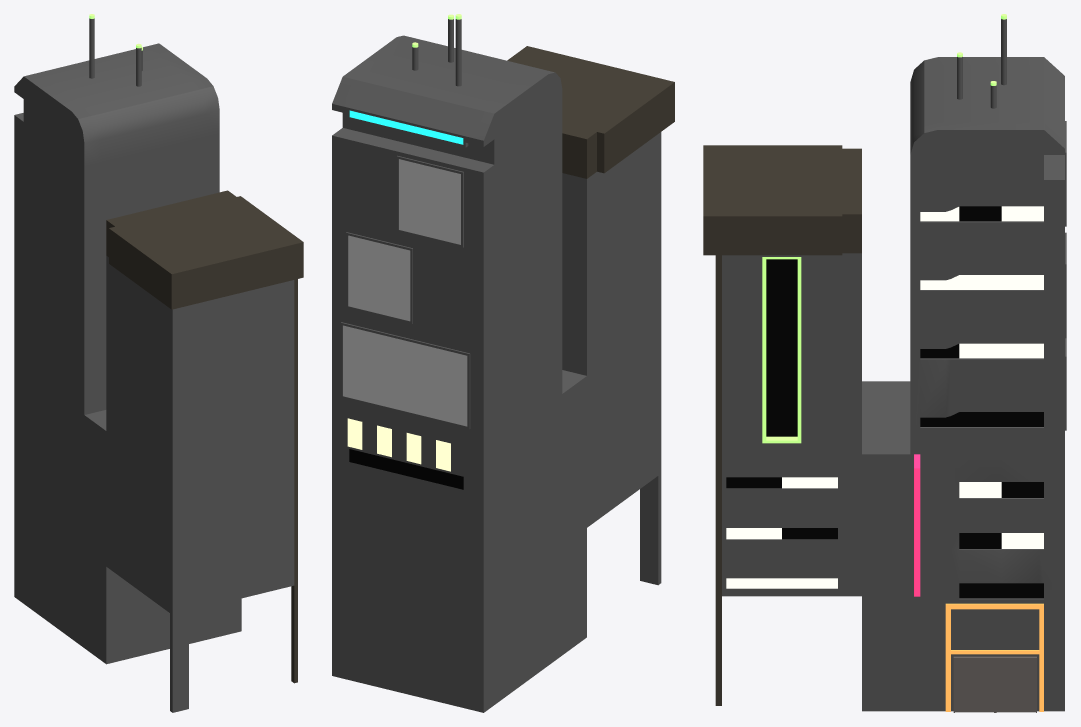
Rendered from SM_CactusScraper.fbx.
3 renders of one model, left to right at view 1: azimuth 30°, elevation 25°; view 2: azimuth 150°, elevation 25°; view 3: azimuth 270°, elevation 25°, orthographic. The views are drawn at different scales.
Visible parts, largest first — view 1: Cube.019, Cube.021; view 2: Cube.019, Cube.022, Cube.025, Cube.023, Cube.021; view 3: Cube.019, Smallerhouse2.005, Smallerhouse2.006, Cube.020, Cube.021.
Boxes of the visible parts, x1,y1,x2,y2 form: Cube.019: (14,43,303,712); Cube.021: (89,14,142,86); Cube.019: (332,35,674,712); Cube.022: (340,322,470,429); Cube.025: (396,155,463,247); Cube.023: (346,232,412,323); Cube.021: (412,14,461,86); Cube.019: (703,57,1064,711); Smallerhouse2.005: (953,656,995,712); Smallerhouse2.006: (995,656,1036,712); Cube.020: (914,454,920,596); Cube.021: (957,14,1006,108).
Bounding box in the file's own units: 826 × 2784 × 1409.
